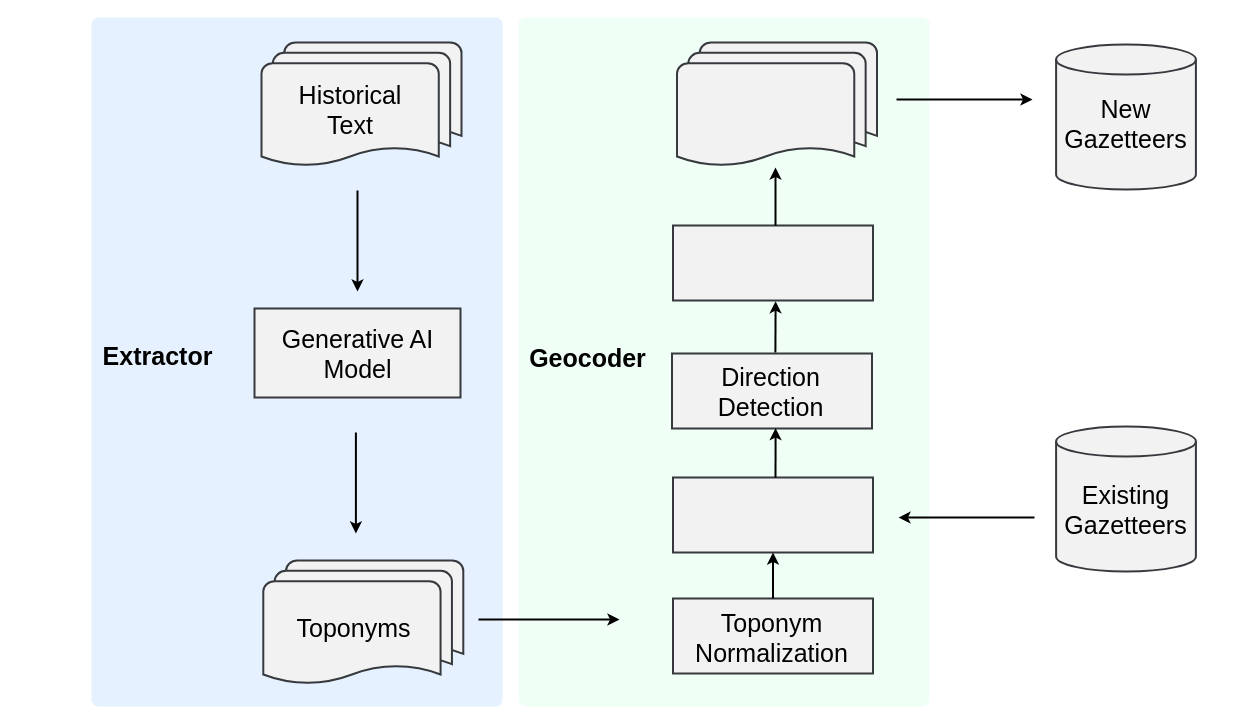
This 1233x723 diagram has some shape labels left out. Each missing label, with the centre of its shape:
"Coordinate Calculation" belongs at (773,262).
"Coordinates" belongs at (777,104).
"Toponym Matching" belongs at (773,514).
